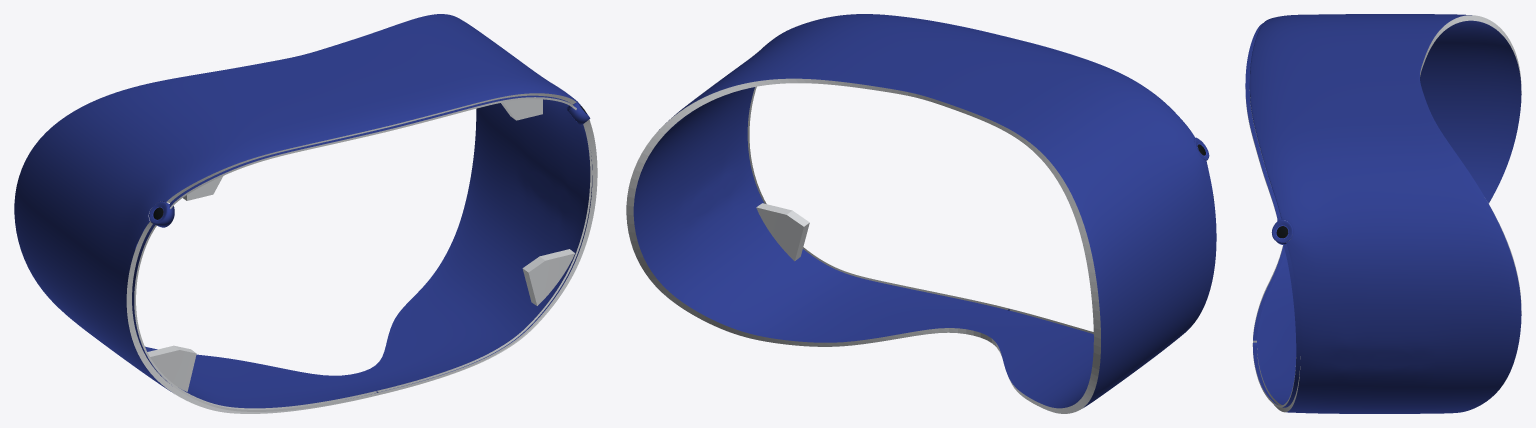
The model's file is Gehaeuse.fbx.
3 views of the same model, side by side, from view 1: azimuth 30°, elevation 25°; view 2: azimuth 150°, elevation 25°; view 3: azimuth 270°, elevation 25° (orthographic). The views are drawn at different scales.
Parts seen in each view (by area): view 1: Gehäuse; view 2: Gehäuse; view 3: Gehäuse.
Boxes of the visible parts, bbox=[...] form: Gehäuse: bbox=[14, 14, 597, 413]; Gehäuse: bbox=[626, 14, 1216, 413]; Gehäuse: bbox=[1245, 14, 1521, 413].
Size of the model in its own units: 125 by 70.98 by 64.58.
